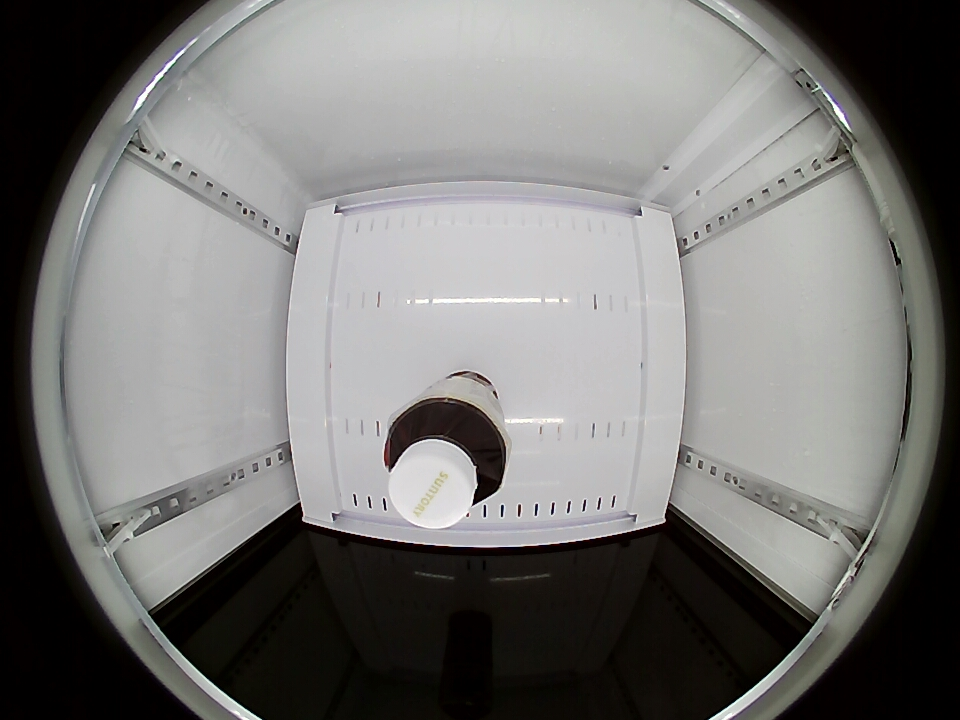wulongcha: (383, 392, 509, 529)
